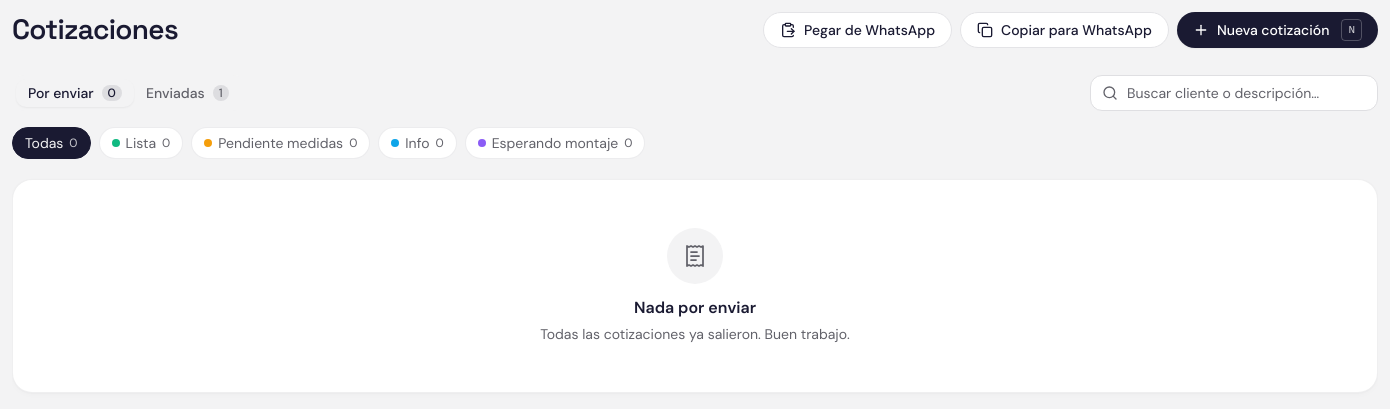
Test: Página Cotizaciones › comentario editable en línea
Click the tab "Enviadas 1": (187, 93) left=134, top=79, right=241, bottom=107
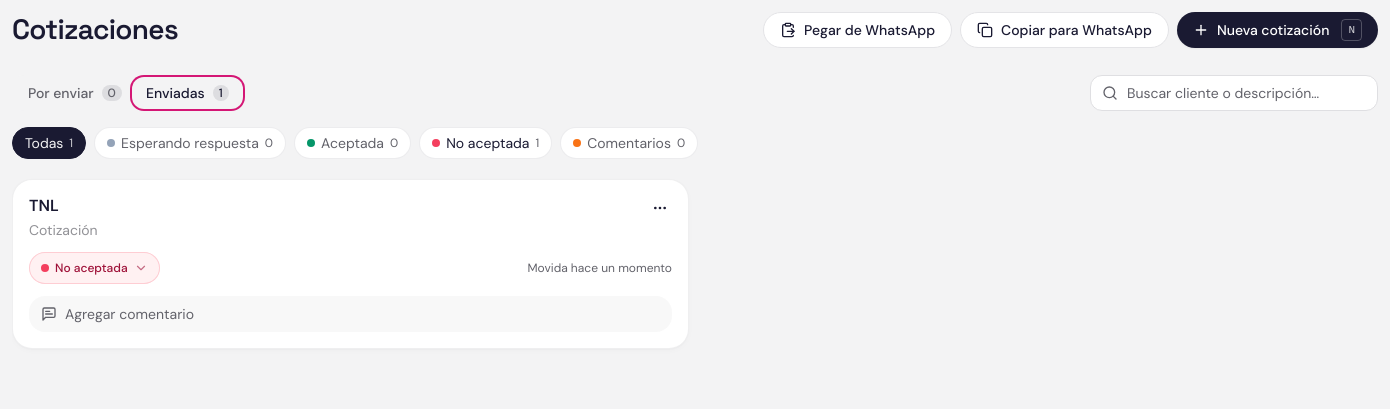
Click the button "Agregar comentario": (129, 314) left=29, top=296, right=672, bottom=332
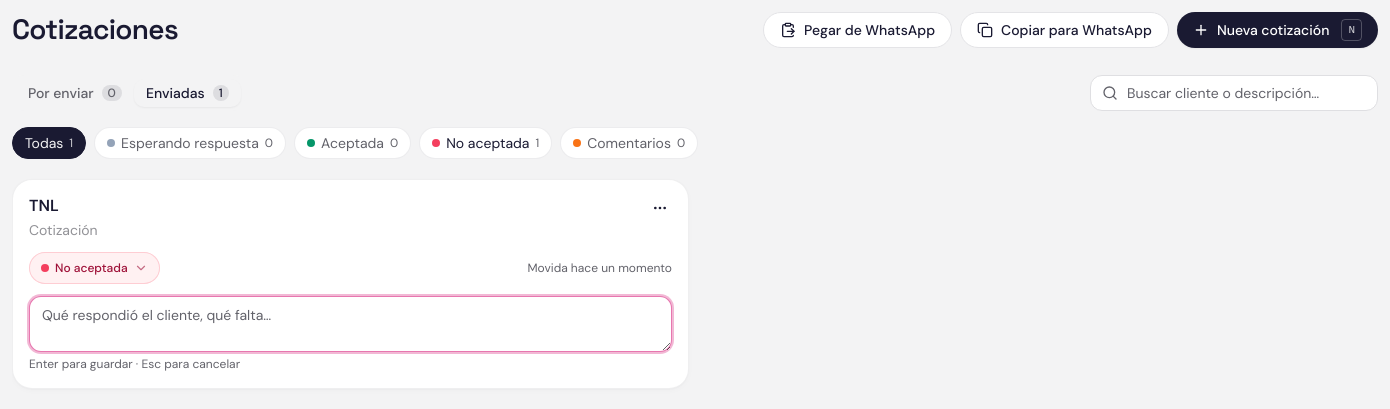
In the text box named "Comentario": (350, 324) left=29, top=296, right=672, bottom=352, type "Le pareció caro"
Then press Enter
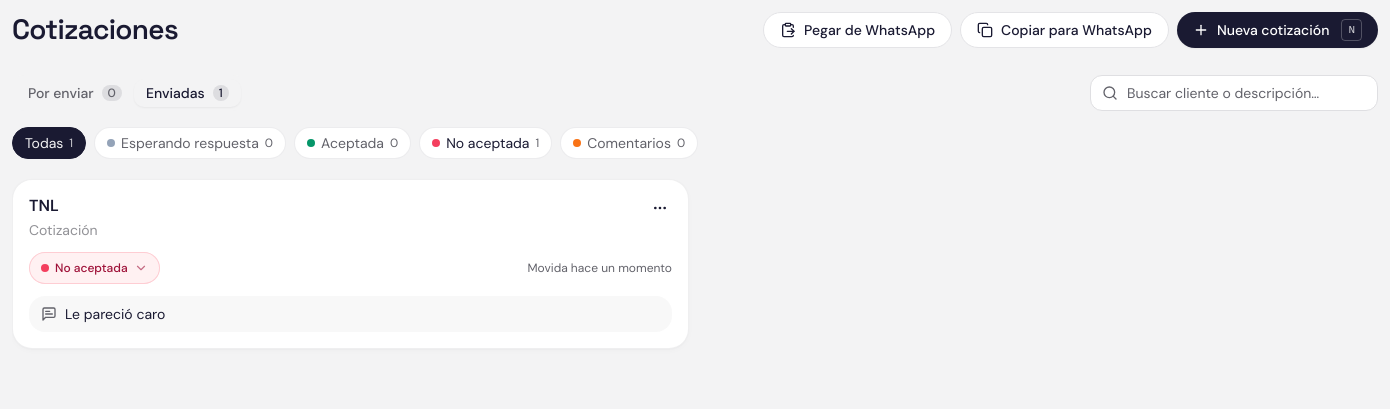
Expected: the button with aria-label "Comentario: Le pareció caro" is shown, left=29, top=296, right=672, bottom=332
